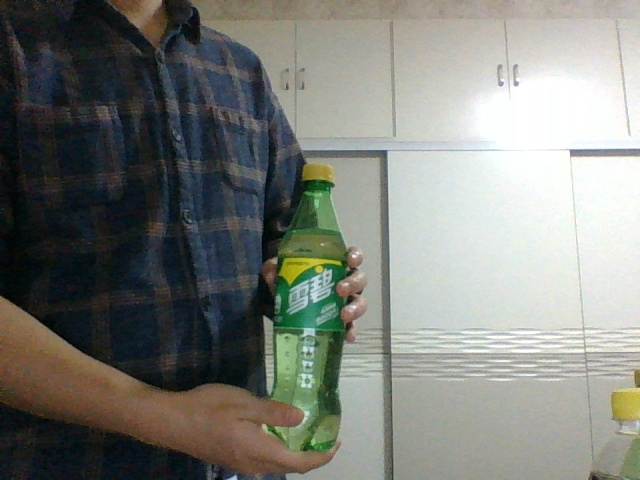Sprite: (265, 165, 349, 451)
